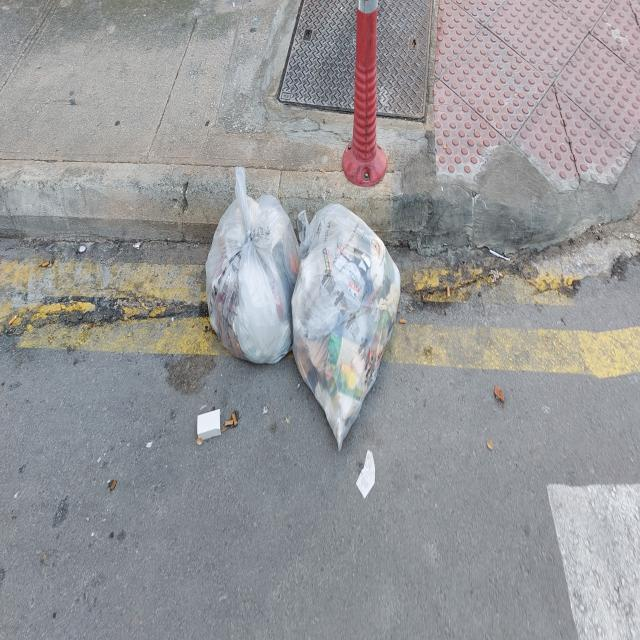Organic Waste -White Bag-: (294, 204, 404, 448), (206, 191, 300, 366)
